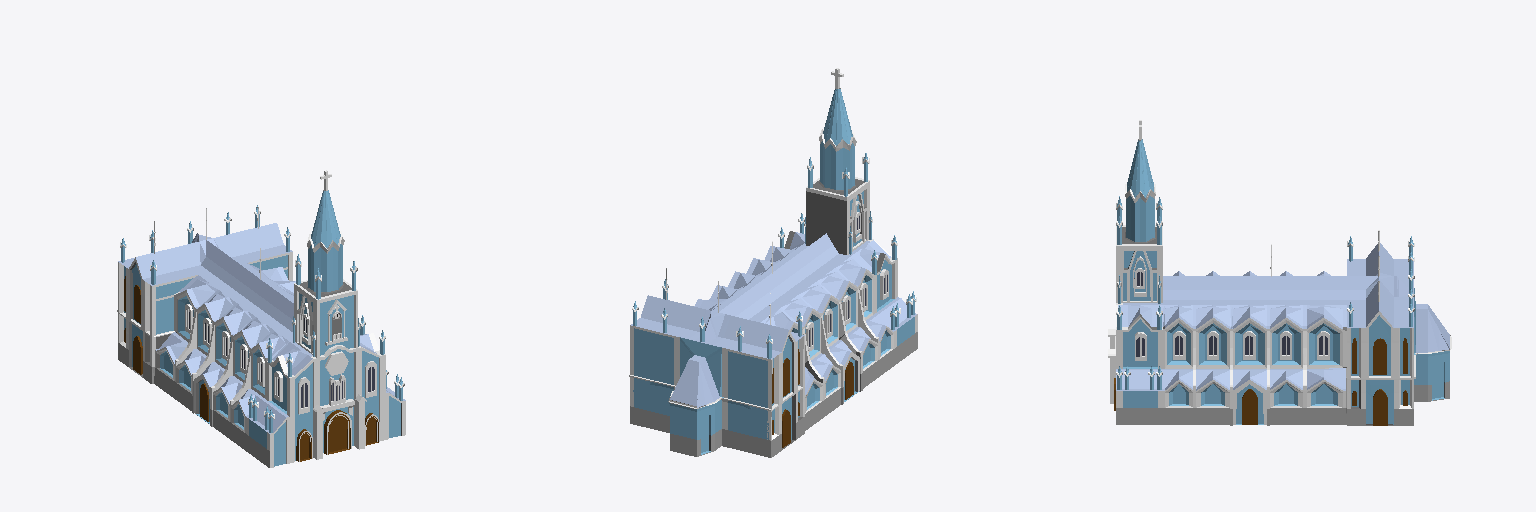
The model's file is ermita.obj.
3 views of the same model, side by side, from view 1: azimuth 30°, elevation 25°; view 2: azimuth 150°, elevation 25°; view 3: azimuth 270°, elevation 25° (orthographic).
Visible parts, largest first — view 1: polySurface9; view 2: polySurface9; view 3: polySurface9.
Part boxes in pixels (x1,y1,x2,y2): polySurface9: (117,170,405,467); polySurface9: (629,68,917,457); polySurface9: (1108,120,1451,425).
Size of the model in its own units: 2075 by 3811 by 4358.